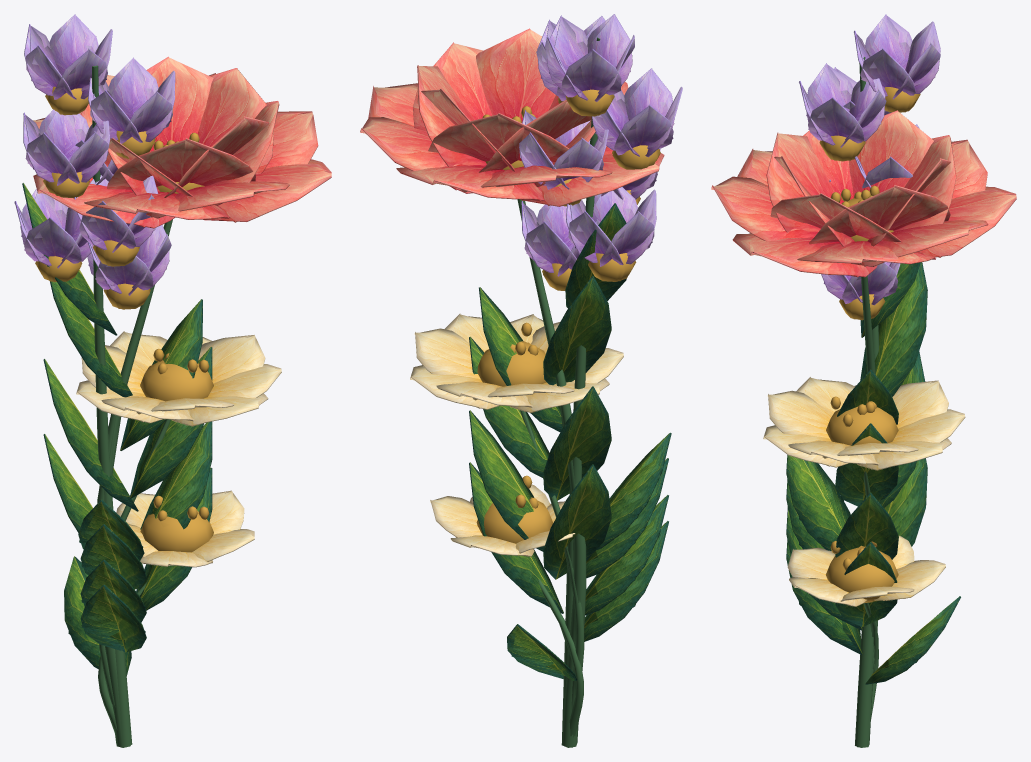
File: sculpted-flowers.glb
3 renders of one model, left to right at view 1: azimuth 30°, elevation 25°; view 2: azimuth 150°, elevation 25°; view 3: azimuth 270°, elevation 25°, orthographic. The views are drawn at different scales.
Parts seen in each view (by area): view 1: coral-cosmos, lilac-spires, ivory-anemone, meadow-cups, lilac-spires-far, coral-cosmos-far, meadow-cups-far, ivory-anemone-far; view 2: coral-cosmos, lilac-spires, ivory-anemone, meadow-cups, lilac-spires-far, coral-cosmos-far, ivory-anemone-far, meadow-cups-far; view 3: coral-cosmos, lilac-spires, ivory-anemone, meadow-cups, lilac-spires-far, coral-cosmos-far, meadow-cups-far.
Boxes of the visible parts, x1=… form: coral-cosmos: x1=33, y1=56, x2=331, y2=747; lilac-spires: x1=14, y1=15, x2=202, y2=747; ivory-anemone: x1=43, y1=331, x2=281, y2=704; meadow-cups: x1=43, y1=434, x2=254, y2=732; lilac-spires-far: x1=14, y1=14, x2=174, y2=744; coral-cosmos-far: x1=38, y1=73, x2=331, y2=744; meadow-cups-far: x1=81, y1=490, x2=254, y2=734; ivory-anemone-far: x1=76, y1=331, x2=281, y2=706; coral-cosmos: x1=360, y1=28, x2=668, y2=747; lilac-spires: x1=479, y1=14, x2=682, y2=738; ivory-anemone: x1=410, y1=314, x2=668, y2=711; meadow-cups: x1=430, y1=462, x2=668, y2=736; lilac-spires-far: x1=523, y1=14, x2=681, y2=743; coral-cosmos-far: x1=360, y1=88, x2=668, y2=747; ivory-anemone-far: x1=410, y1=313, x2=667, y2=671; meadow-cups-far: x1=430, y1=500, x2=667, y2=737; coral-cosmos: x1=711, y1=110, x2=1016, y2=746; lilac-spires: x1=786, y1=14, x2=940, y2=747; ivory-anemone: x1=763, y1=351, x2=965, y2=672; meadow-cups: x1=786, y1=458, x2=945, y2=718; lilac-spires-far: x1=799, y1=14, x2=935, y2=747; coral-cosmos-far: x1=711, y1=140, x2=1016, y2=734; meadow-cups-far: x1=794, y1=556, x2=945, y2=712.
Size of the model in its own units: 0.4923 by 1.16 by 0.4606.
Materials: 3 (1 with a texture image).
